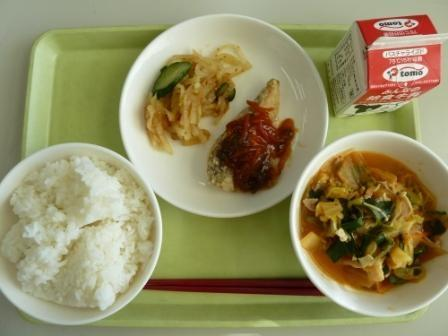Fish: (211, 86, 309, 195)
Milk: (321, 8, 446, 105)
Rice: (0, 141, 165, 316)
salad with sauce: (134, 46, 243, 133)
vegetable soup: (295, 132, 446, 307)
